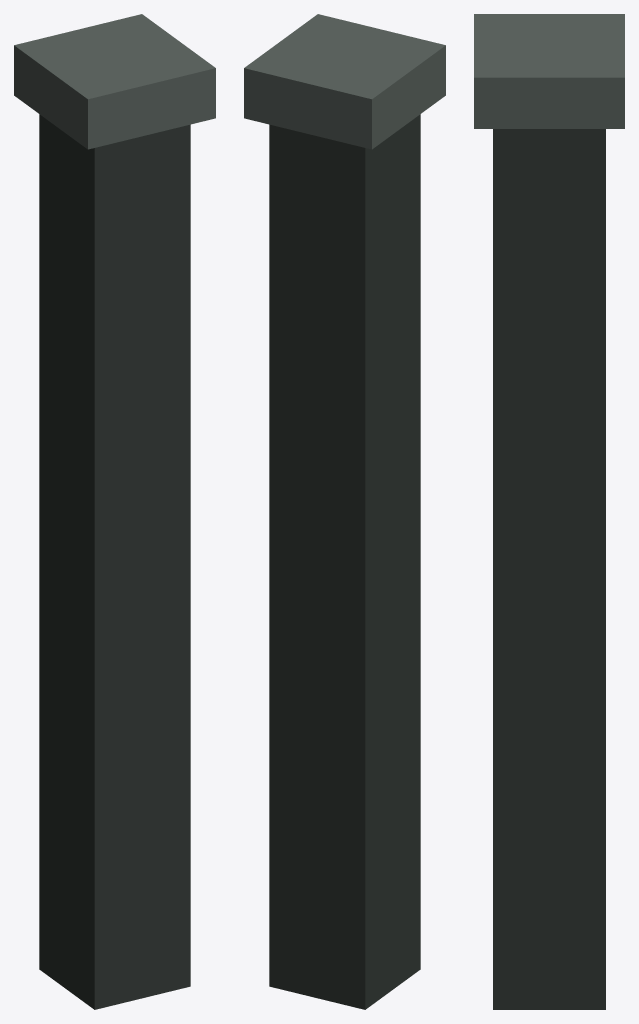
The model's file is SM_Railing_Post.fbx.
3 views of the same model, side by side, from view 1: azimuth 30°, elevation 25°; view 2: azimuth 150°, elevation 25°; view 3: azimuth 270°, elevation 25° (orthographic). The views are drawn at different scales.
Parts seen in each view (by area): view 1: SM_Railing_Post; view 2: SM_Railing_Post; view 3: SM_Railing_Post.
Part boxes in pixels (x1,y1,x2,y2): SM_Railing_Post: [14, 14, 215, 1009]; SM_Railing_Post: [244, 14, 445, 1009]; SM_Railing_Post: [474, 14, 624, 1009].
Size of the model in its own units: 0.16 by 1.1 by 0.16.
